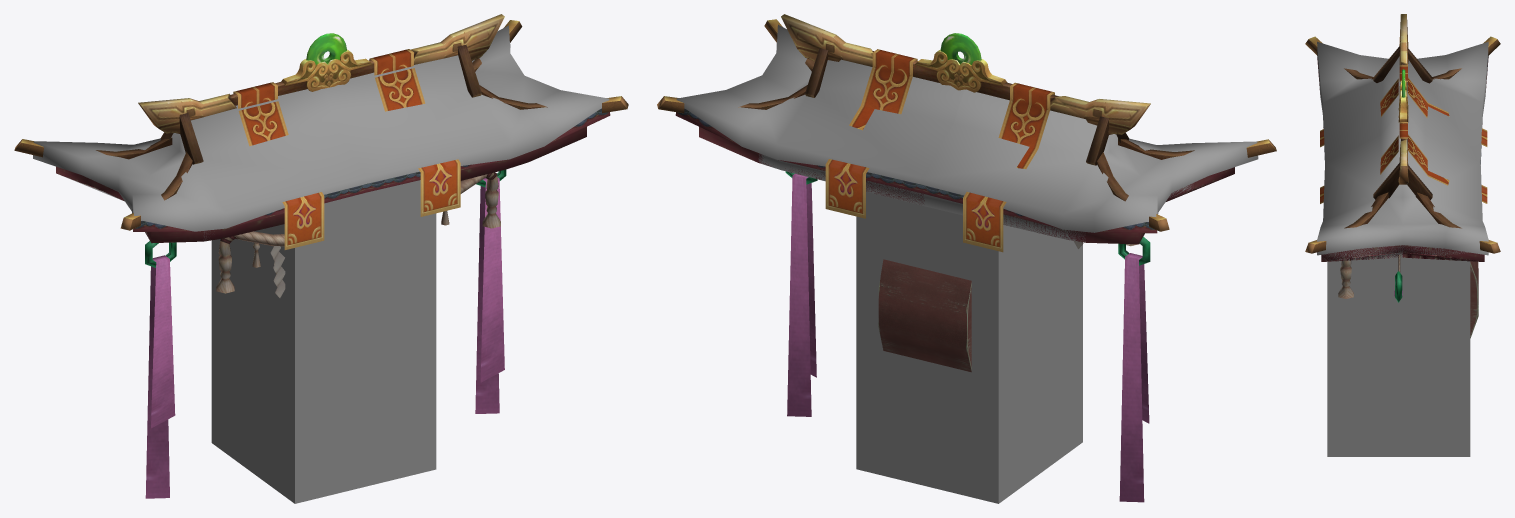
File: Scene_Build_HuanYinFang_DengTing_1.FBX
3 views of the same model, side by side, from view 1: azimuth 30°, elevation 25°; view 2: azimuth 150°, elevation 25°; view 3: azimuth 270°, elevation 25° (orthographic). The views are drawn at different scales.
Visible parts, largest first — view 1: Scene_Build_HuanYinFang_DengTing_1_Xzm, Scene_Build_HuanYinFang_DengTing_1a, Scene_Build_HuanYinFang_DengTing_1c, Scene_Build_HuanYinFang_DengTing_1b; view 2: Scene_Build_HuanYinFang_DengTing_1_Xzm, Scene_Build_HuanYinFang_DengTing_1a, Scene_Build_HuanYinFang_DengTing_1c, Scene_Build_HuanYinFang_DengTing_1d, Scene_Build_HuanYinFang_DengTing_1b; view 3: Scene_Build_HuanYinFang_DengTing_1_Xzm, Scene_Build_HuanYinFang_DengTing_1a, Scene_Build_HuanYinFang_DengTing_1b, Scene_Build_HuanYinFang_DengTing_1d.
Boxes of the visible parts, x1,y1,x2,y2 form: Scene_Build_HuanYinFang_DengTing_1_Xzm: (33, 25, 609, 503); Scene_Build_HuanYinFang_DengTing_1a: (14, 14, 628, 297); Scene_Build_HuanYinFang_DengTing_1c: (145, 177, 504, 498); Scene_Build_HuanYinFang_DengTing_1b: (56, 108, 610, 243); Scene_Build_HuanYinFang_DengTing_1_Xzm: (675, 24, 1258, 503); Scene_Build_HuanYinFang_DengTing_1a: (657, 14, 1276, 252); Scene_Build_HuanYinFang_DengTing_1c: (787, 173, 1149, 502); Scene_Build_HuanYinFang_DengTing_1d: (785, 171, 1150, 372); Scene_Build_HuanYinFang_DengTing_1b: (675, 108, 1234, 244); Scene_Build_HuanYinFang_DengTing_1_Xzm: (1317, 41, 1488, 456); Scene_Build_HuanYinFang_DengTing_1a: (1305, 14, 1500, 298); Scene_Build_HuanYinFang_DengTing_1b: (1317, 52, 1488, 261); Scene_Build_HuanYinFang_DengTing_1d: (1395, 261, 1478, 338).
Bounding box in the file's own units: 1718 × 1375 × 669.
